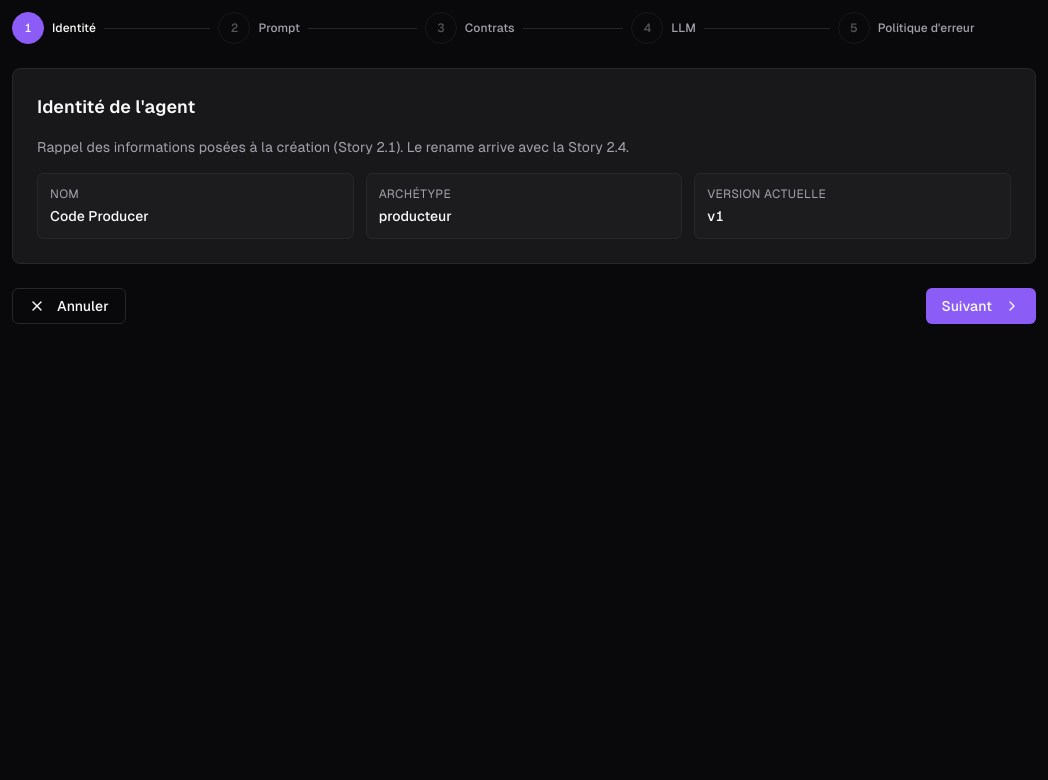
Test: TemplateWizardForm › P-14 — clicking a completed step in the progress bar jumps directly to it
The width and height of the screenshot is (1048, 780).
# Reach step 3 (validates steps 1 + 2 along the way → both completed).
Click the button "Suivant": (981, 306) [926, 288, 1036, 324]
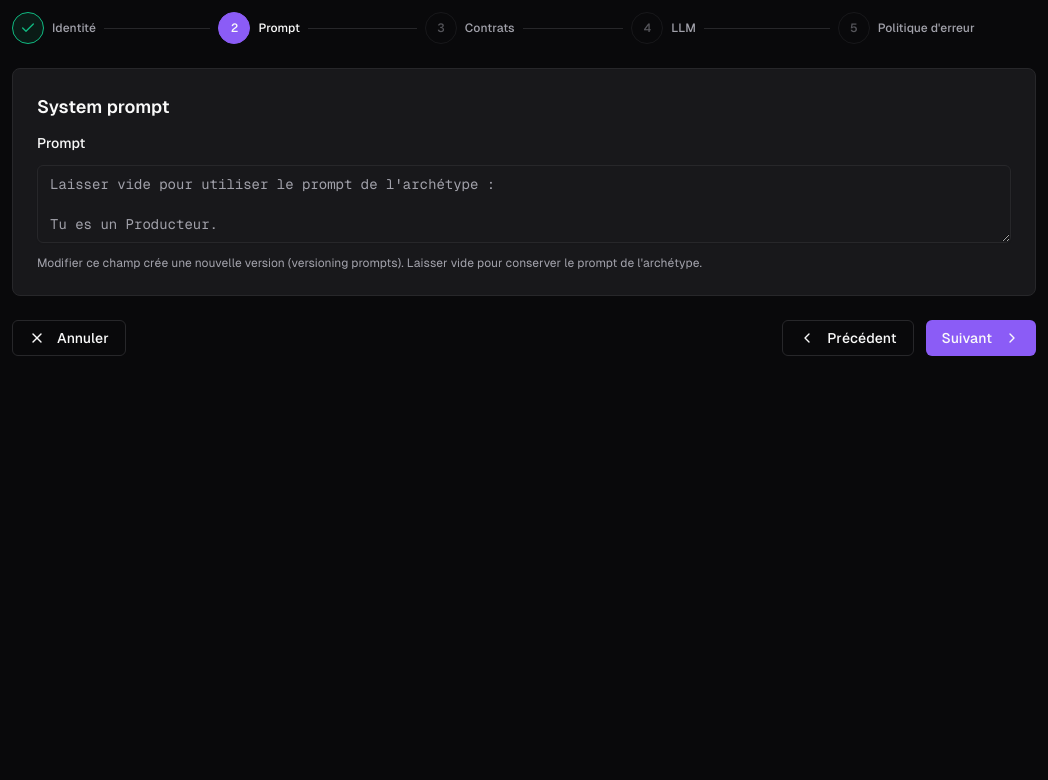
Click the button "Suivant": (981, 338) [926, 320, 1036, 356]
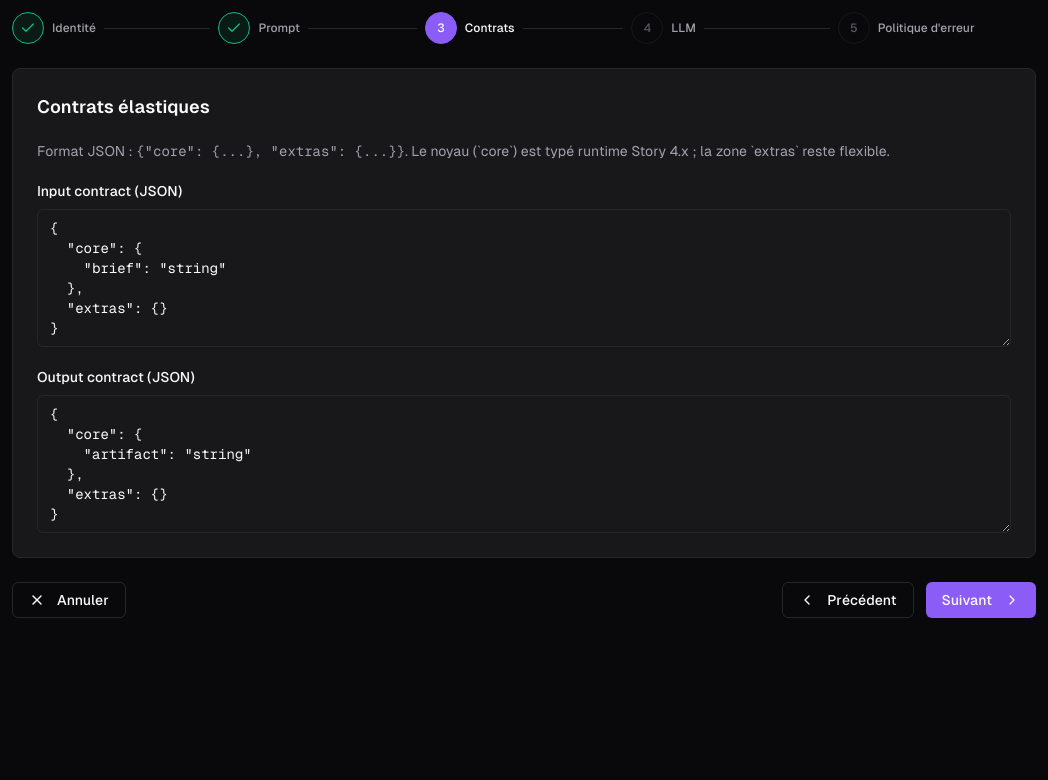
Check: the heading "Contrats élastiques" is shown, box [37, 96, 210, 117]
Click the button without text next to "Identité": (28, 28) [12, 12, 44, 44]
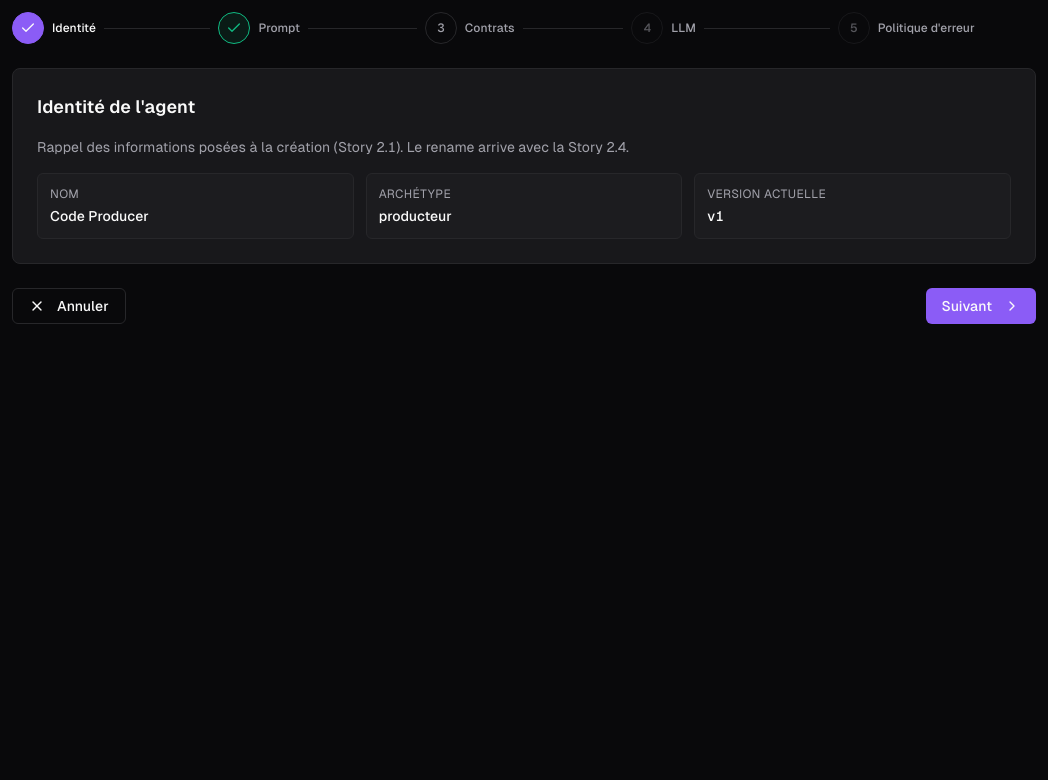
Check: the heading "Identité de l'agent" is shown, box [37, 96, 195, 117]
